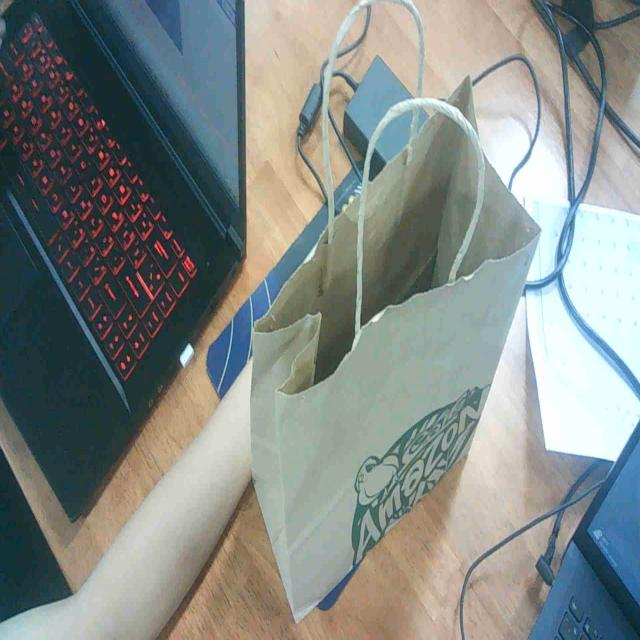bag: (242, 40, 548, 640)
